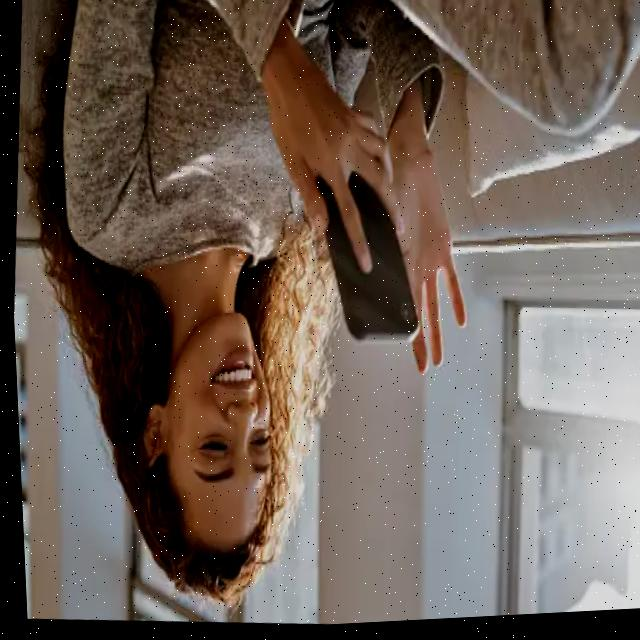smartphone-person: (16, 0, 510, 639)
